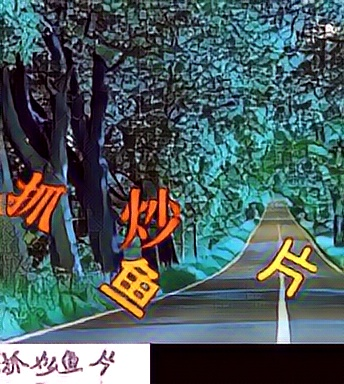B3B4: (116, 185, 182, 249)
C6AC: (255, 234, 321, 298)
D3E3: (98, 253, 164, 317)
D7A5: (5, 170, 71, 234)
